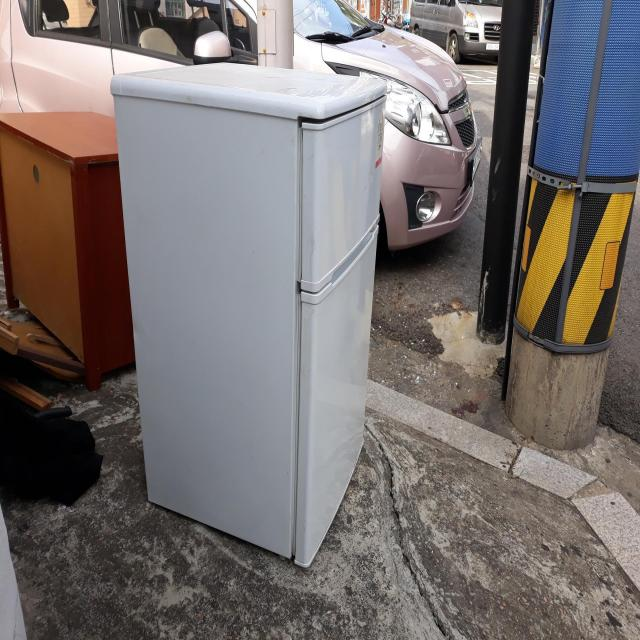refrigerator: (109, 59, 388, 567)
